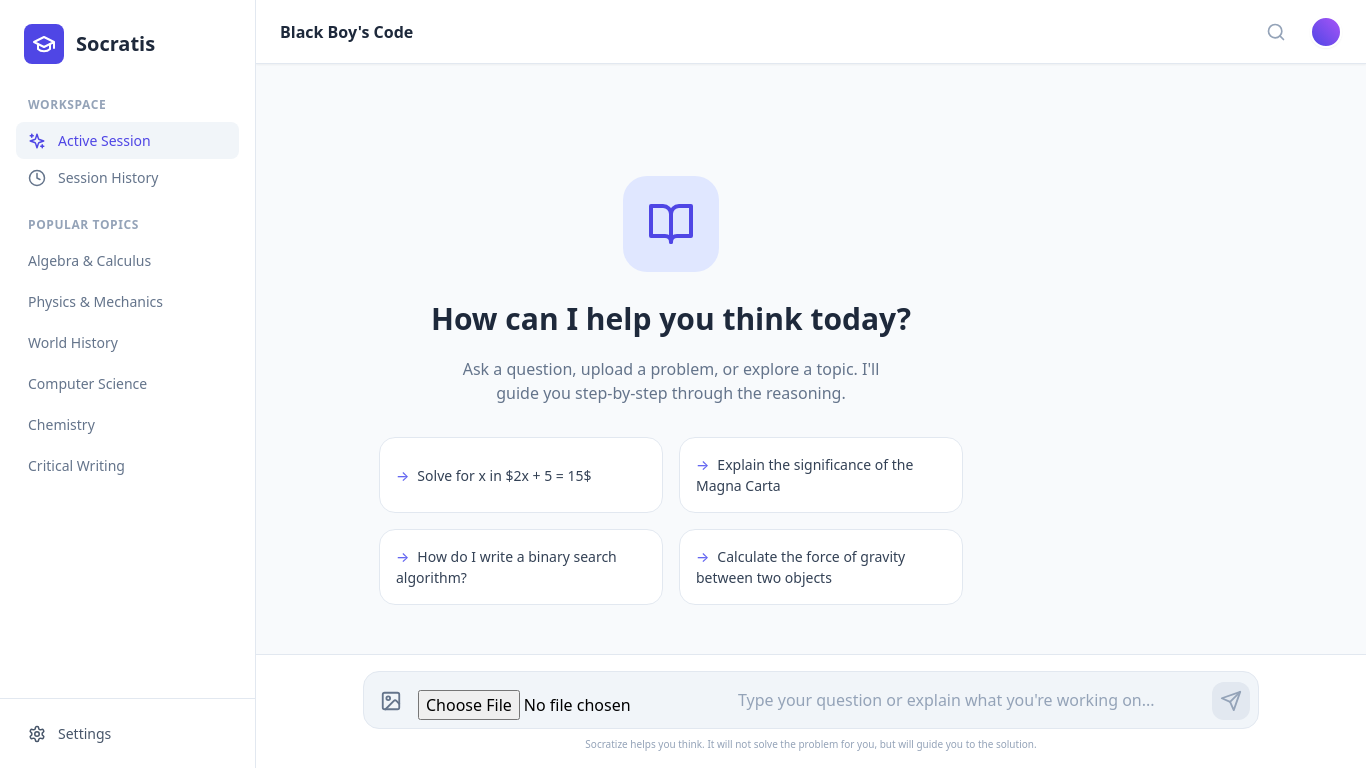
App › Message Flow and State Changes › shows live indicator after first message sent
Note: Click first suggestion
Click the button "→ Solve for x in $2x + 5 = 15$". click: {"x": 521, "y": 475}
box: [379, 437, 663, 513]
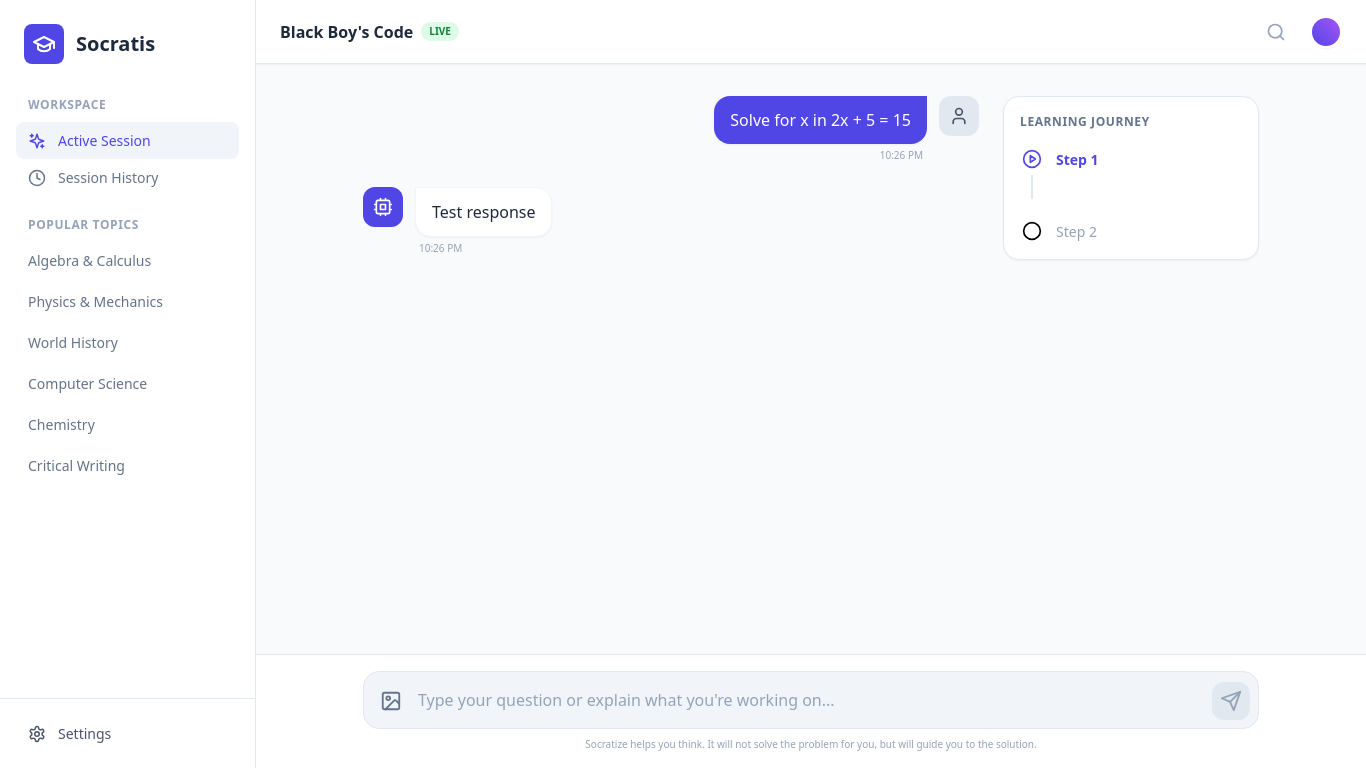
Check: the text "LIVE" is shown, box [421, 22, 459, 41]
